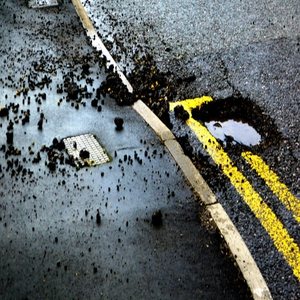pothole: (192, 89, 286, 158)
